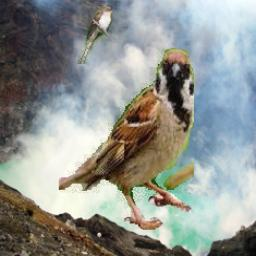Cuckoo: (77, 5, 112, 64)
Sparrow: (59, 49, 194, 231)
